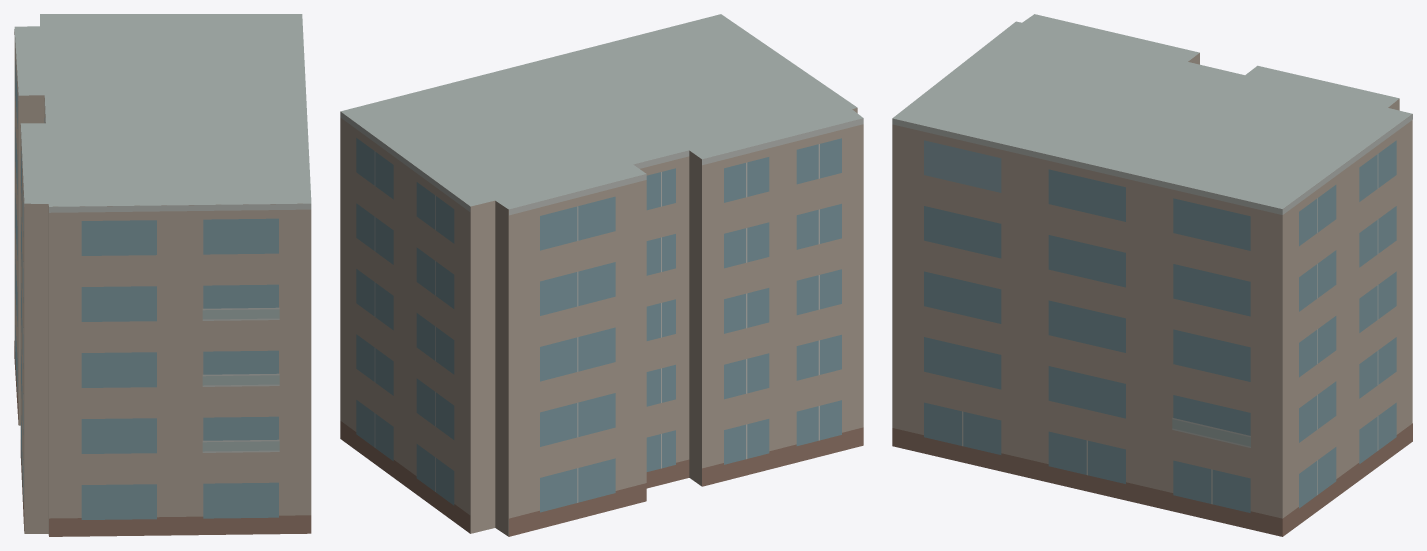
The model's file is survey-upis-32667995.glb.
3 views of the same model, side by side, from view 1: azimuth 30°, elevation 25°; view 2: azimuth 150°, elevation 25°; view 3: azimuth 270°, elevation 25° (orthographic).
Visible parts, largest first — view 1: survey-upis-32667995.tmp; view 2: survey-upis-32667995.tmp; view 3: survey-upis-32667995.tmp.
Part boxes in pixels (x1,y1,x2,y2): survey-upis-32667995.tmp: (14,14,311,536); survey-upis-32667995.tmp: (340,14,863,536); survey-upis-32667995.tmp: (892,14,1412,536).
Bounding box in the file's own units: 17.12 × 13.4 × 19.3.
